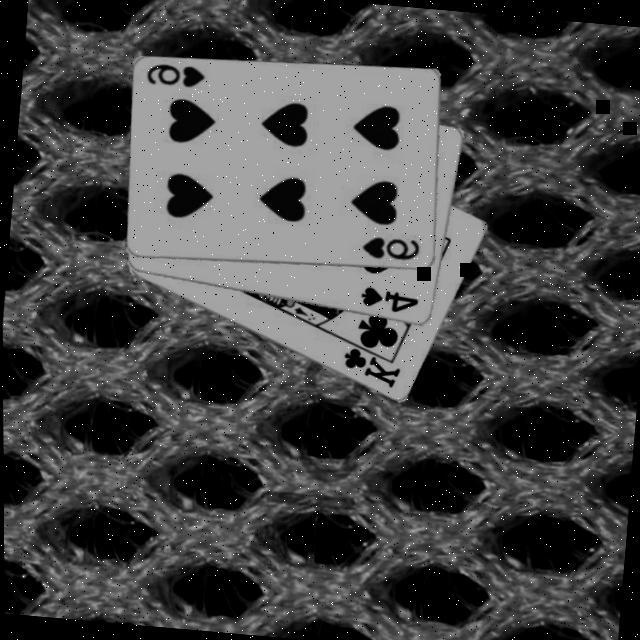4S: (355, 283, 419, 316)
6H: (141, 58, 206, 91), (356, 231, 420, 264)
KC: (335, 335, 402, 390)
